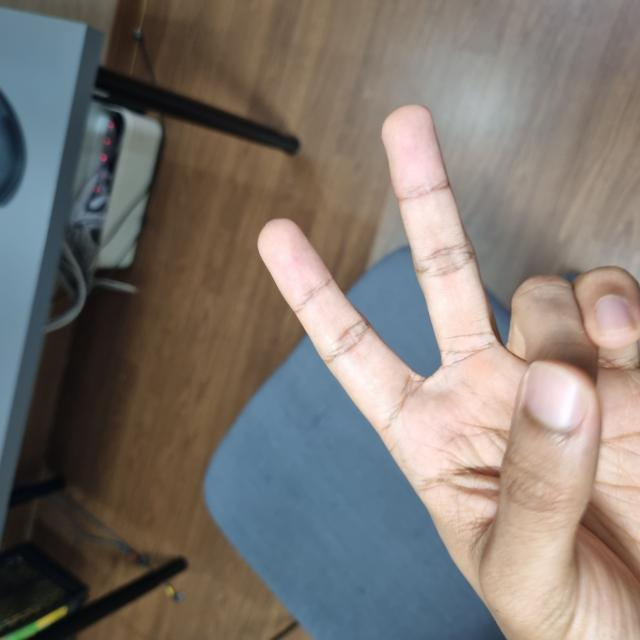Scissors: (0, 264, 529, 639)
